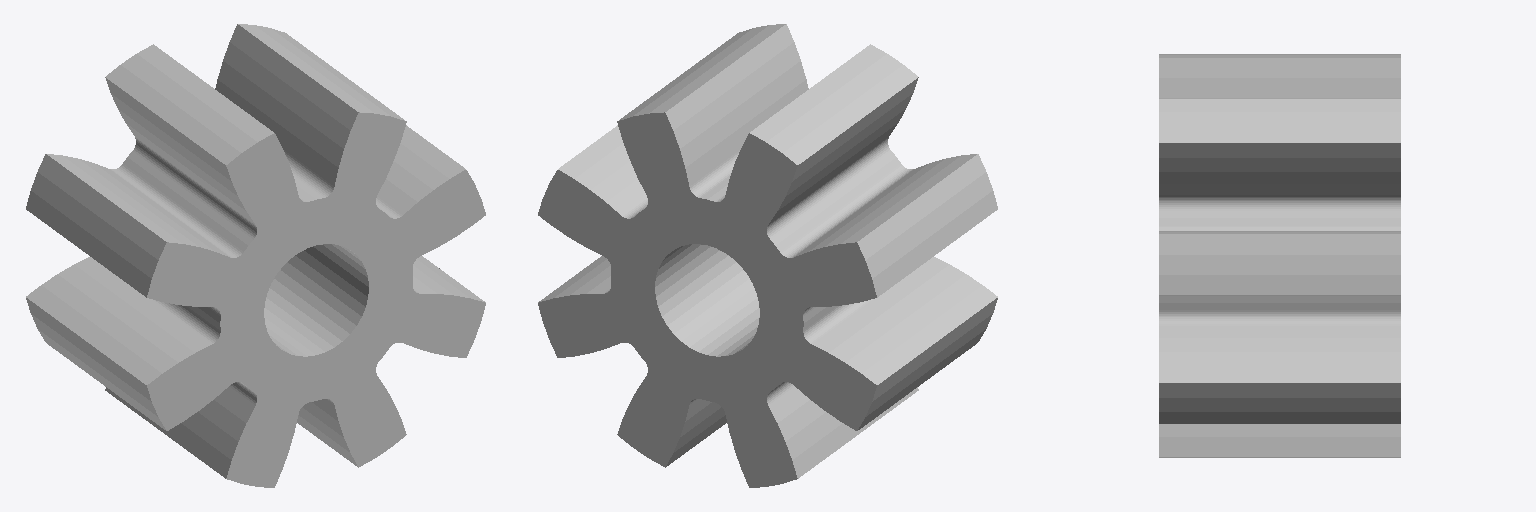
The picture shows the model from 3 angles: view 1: azimuth 30°, elevation 25°; view 2: azimuth 150°, elevation 25°; view 3: azimuth 270°, elevation 25°; orthographic projection.
Visible parts, largest first — view 1: mmGroup0; view 2: mmGroup0; view 3: mmGroup0.
Boxes of the visible parts, x1,y1,x2,y2 form: mmGroup0: [26, 24, 485, 487]; mmGroup0: [538, 24, 997, 487]; mmGroup0: [1159, 54, 1400, 457].
Bounding box in the file's own units: 1.91 × 1.91 × 1.18.